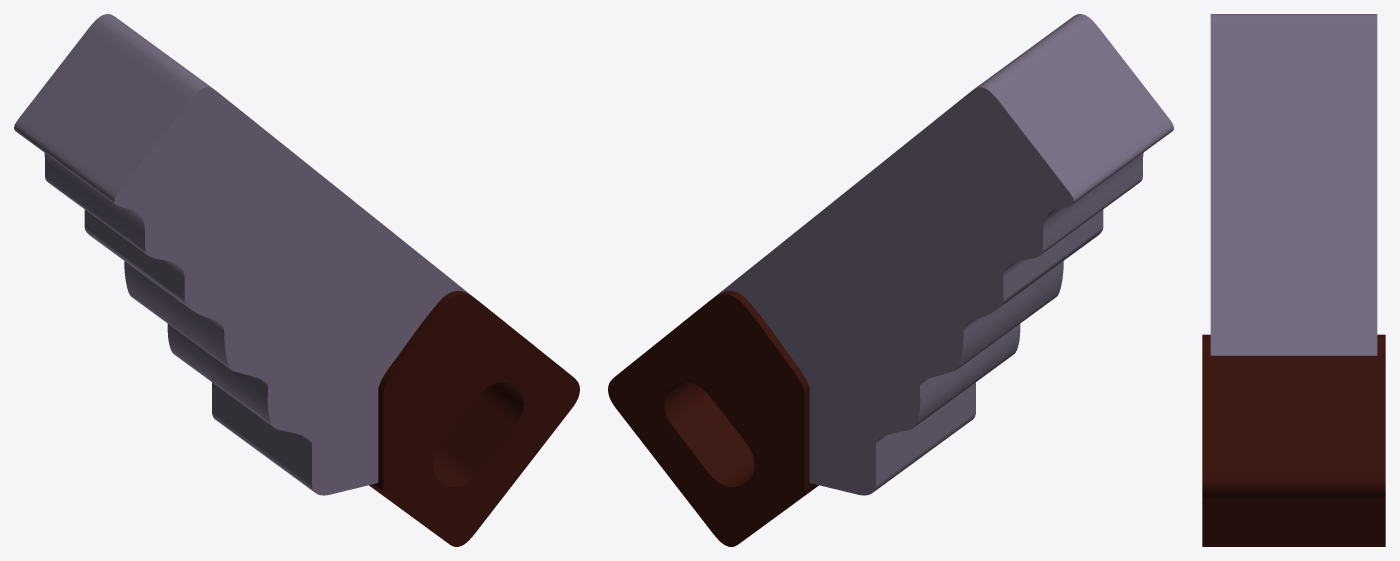
The picture shows the model from 3 angles, left to right: view 1: azimuth 30°, elevation 25°; view 2: azimuth 150°, elevation 25°; view 3: azimuth 270°, elevation 25°; orthographic projection. The views are drawn at different scales.
Parts seen in each view (by area): view 1: U+1FA9A_layer00_obj00, U+1FA9A_layer01_obj00; view 2: U+1FA9A_layer00_obj00, U+1FA9A_layer01_obj00; view 3: U+1FA9A_layer00_obj00, U+1FA9A_layer01_obj00.
Boxes of the visible parts, x1,y1,x2,y2 form: U+1FA9A_layer00_obj00: (14, 14, 473, 495); U+1FA9A_layer01_obj00: (369, 291, 579, 546); U+1FA9A_layer00_obj00: (714, 14, 1173, 495); U+1FA9A_layer01_obj00: (608, 291, 818, 546); U+1FA9A_layer00_obj00: (1210, 14, 1377, 355); U+1FA9A_layer01_obj00: (1202, 334, 1385, 546).
Size of the model in its own units: 0.5314 by 0.5689 by 0.22.
